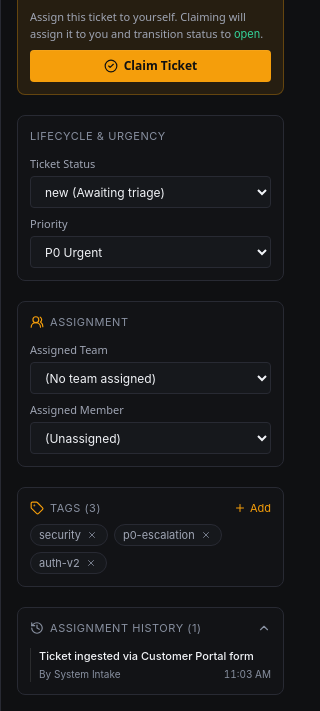
TicketCockpit.Inspector & TicketMetadataInspector (Issue #105) › renders expandable assignment history audit log subledger and toggles visibility
(page scrolled)
Expected: the element with test id "assignment-history-section" is shown, x1=17 y1=607 x2=284 y2=695
Expected: the element with test id "assignment-history-body" is shown, x1=30 y1=644 x2=271 y2=682
// Click toggle to collapse
Click the button with test id "toggle-assignment-history".
click(150, 628)  # box x1=30 y1=620 x2=271 y2=636
(page scrolled)
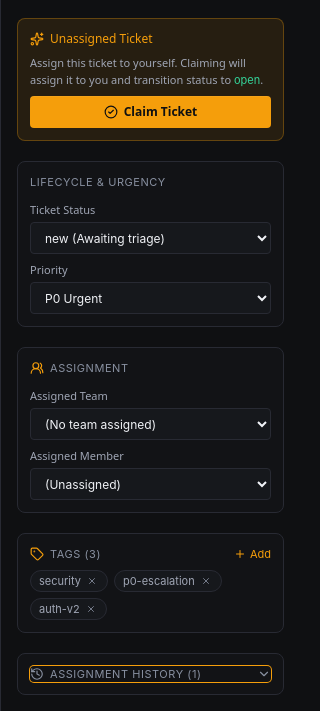
Result: the element with test id "assignment-history-body" is gone
// Click toggle to re-expand
Click the button with test id "toggle-assignment-history".
click(150, 674)  # box x1=30 y1=666 x2=271 y2=682
(page scrolled)
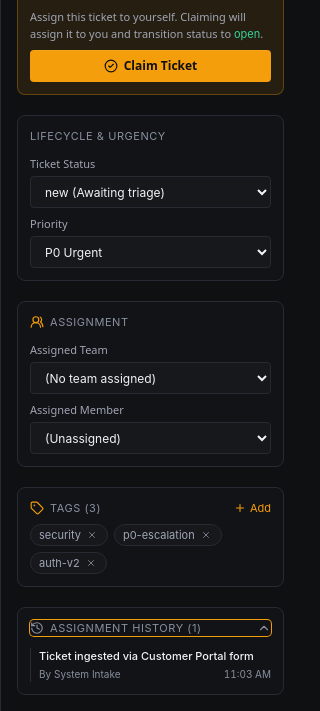
Result: the element with test id "assignment-history-body" is shown at x1=30 y1=644 x2=271 y2=682
